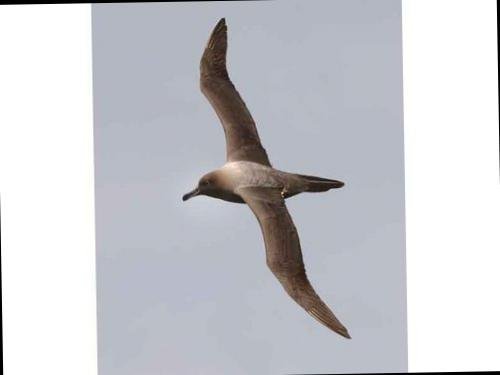bird: (170, 11, 370, 343)
